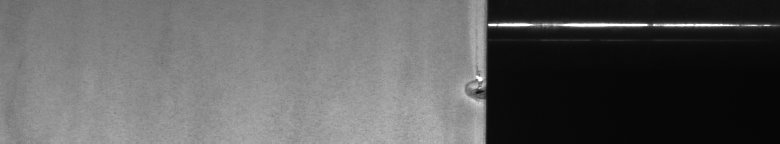hb: (460, 76, 476, 105)
